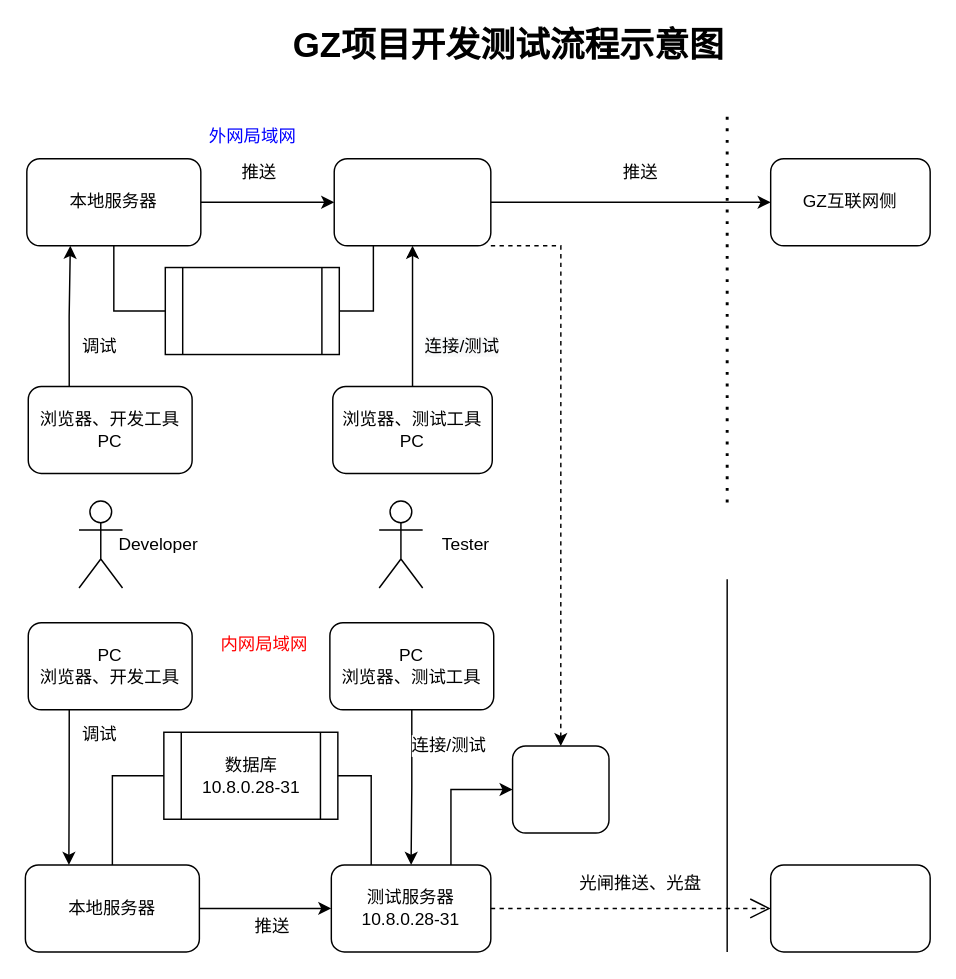
This 956x979 diagram has some shape labels left out. Each missing label, with the centre of its shape:
GZ专网侧: (x=849, y=907)
MySQL数据库 192.168.0.102: (x=251, y=310)
测试服务器 192.168.0.102（虚机）: (x=412, y=201)
演示环境: (x=560, y=789)
